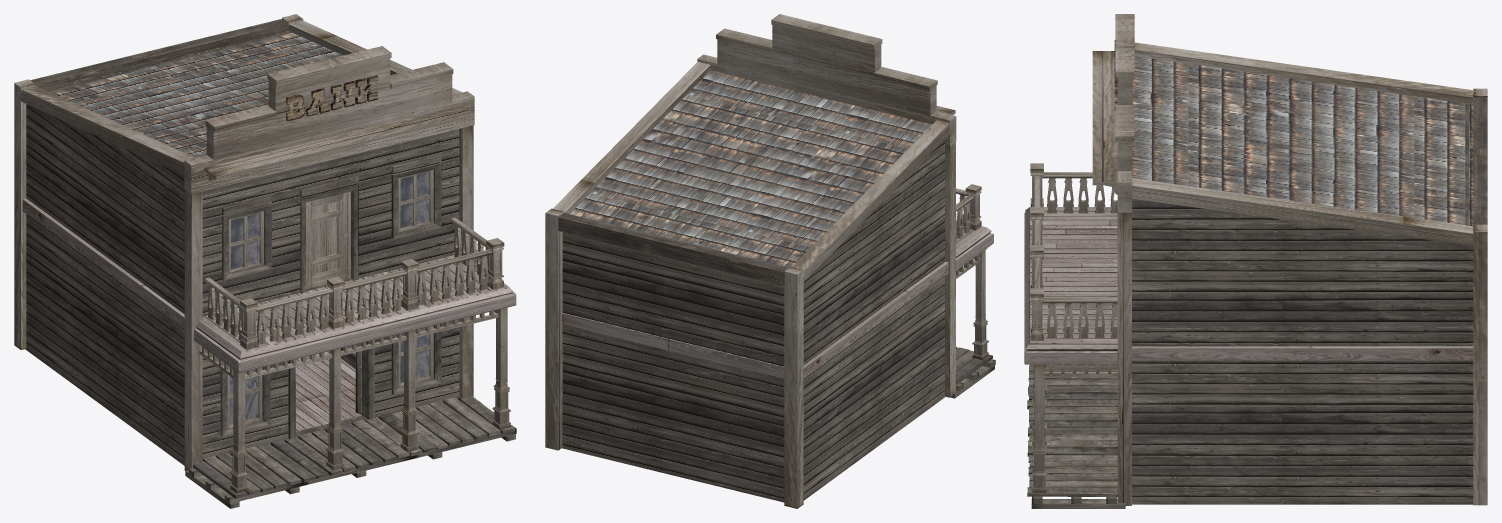
File: Old_western_bank.fbx
3 views of the same model, side by side, from view 1: azimuth 30°, elevation 25°; view 2: azimuth 150°, elevation 25°; view 3: azimuth 270°, elevation 25° (orthographic). The views are drawn at different scales.
Visible parts, largest first — view 1: interior_exterior, board_signpost, balcony, parapet.002, gasket, loft, door_2, gasket.002, gasket.004, gasket.003, floor, gasket.001 (+36 smaller); view 2: interior_exterior, board_signpost, floor, gasket.003, gasket.004, gasket.006, gasket.002, gasket.005, gasket, pillar, balcony, parapet (+1 smaller); view 3: interior_exterior, balcony, gasket.005, floor, gasket.002, gasket.001, gasket.006, board_signpost, loft, parapet.001, gasket.004, parapet (+21 smaller).
Boxes of the visible parts, bbox=[...] form: interior_exterior: bbox=[25, 31, 459, 465]; board_signpost: bbox=[184, 46, 474, 193]; balcony: bbox=[194, 255, 516, 372]; parapet.002: bbox=[256, 249, 492, 344]; gasket: bbox=[184, 189, 202, 470]; loft: bbox=[204, 105, 473, 180]; door_2: bbox=[306, 191, 350, 288]; gasket.002: bbox=[20, 86, 194, 175]; gasket.004: bbox=[30, 19, 288, 90]; gasket.003: bbox=[14, 79, 35, 349]; floor: bbox=[22, 198, 184, 329]; gasket.001: bbox=[459, 125, 473, 398]; interior_exterior: bbox=[562, 70, 945, 502]; board_signpost: bbox=[697, 14, 956, 146]; floor: bbox=[562, 261, 948, 378]; gasket.003: bbox=[784, 267, 803, 508]; gasket.004: bbox=[558, 213, 788, 285]; gasket.006: bbox=[545, 208, 564, 450]; gasket.002: bbox=[792, 120, 949, 281]; gasket.005: bbox=[553, 62, 710, 213]; gasket: bbox=[945, 142, 955, 397]; pillar: bbox=[972, 248, 988, 360]; balcony: bbox=[956, 220, 993, 270]; parapet: bbox=[956, 195, 973, 240]; interior_exterior: bbox=[1132, 56, 1473, 504]; balcony: bbox=[1024, 207, 1117, 364]; gasket.005: bbox=[1132, 178, 1473, 246]; floor: bbox=[1132, 346, 1473, 360]; gasket.002: bbox=[1134, 42, 1473, 104]; gasket.001: bbox=[1117, 212, 1131, 505]; gasket.006: bbox=[1473, 224, 1487, 505]; board_signpost: bbox=[1115, 14, 1134, 212]; loft: bbox=[1092, 51, 1117, 194]; parapet.001: bbox=[1042, 297, 1117, 338]; gasket.004: bbox=[1473, 97, 1487, 224]; parapet: bbox=[1042, 172, 1117, 213].
Bounding box in the file's own units: 722 × 907 × 968.
